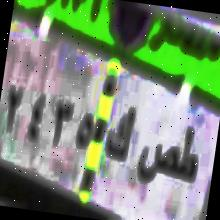2: (1, 73, 28, 142)
3: (49, 96, 77, 157)
4: (22, 88, 52, 150)
5: (74, 101, 98, 158)
Taa: (176, 120, 208, 192)
kaaf: (102, 94, 142, 172)
saad: (131, 130, 181, 202)
